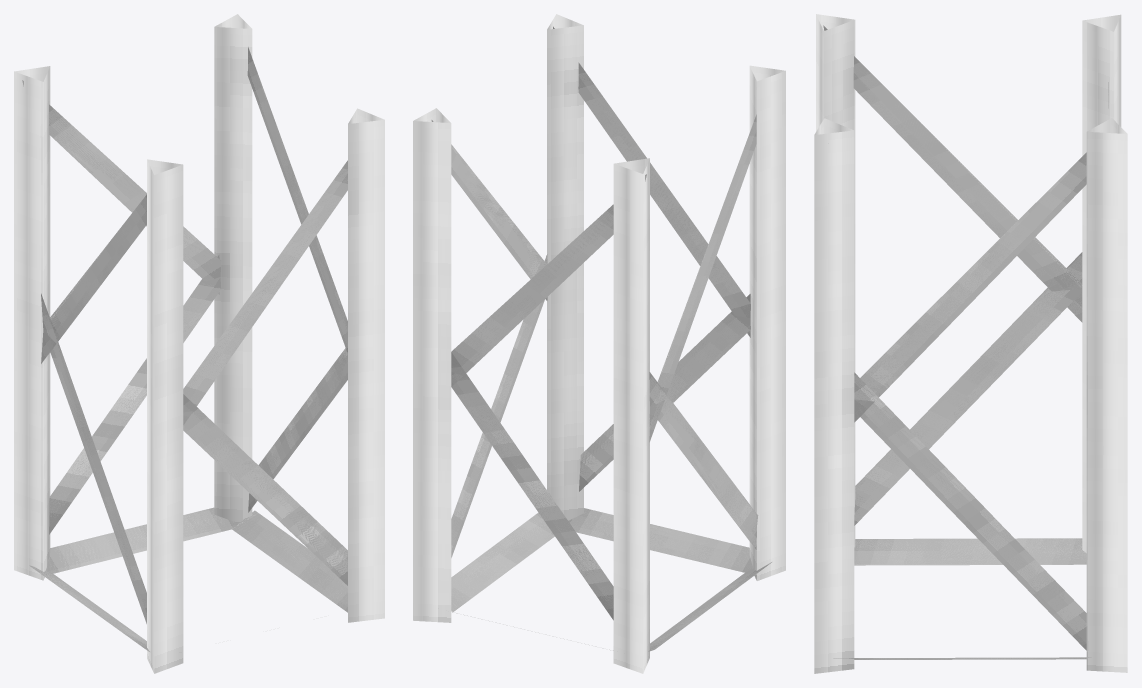
File: RectStructure.glb
3 views of the same model, side by side, from view 1: azimuth 30°, elevation 25°; view 2: azimuth 150°, elevation 25°; view 3: azimuth 270°, elevation 25° (orthographic). The views are drawn at different scales.
Parts seen in each view (by area): view 1: RectStructure; view 2: RectStructure; view 3: RectStructure.
Boxes of the visible parts, bbox=[...] form: RectStructure: bbox=[14, 14, 384, 673]; RectStructure: bbox=[413, 14, 785, 673]; RectStructure: bbox=[814, 14, 1127, 673].
Size of the model in its own units: 1.04 by 2.15 by 1.14.
Materials: 1 (1 with a texture image).
